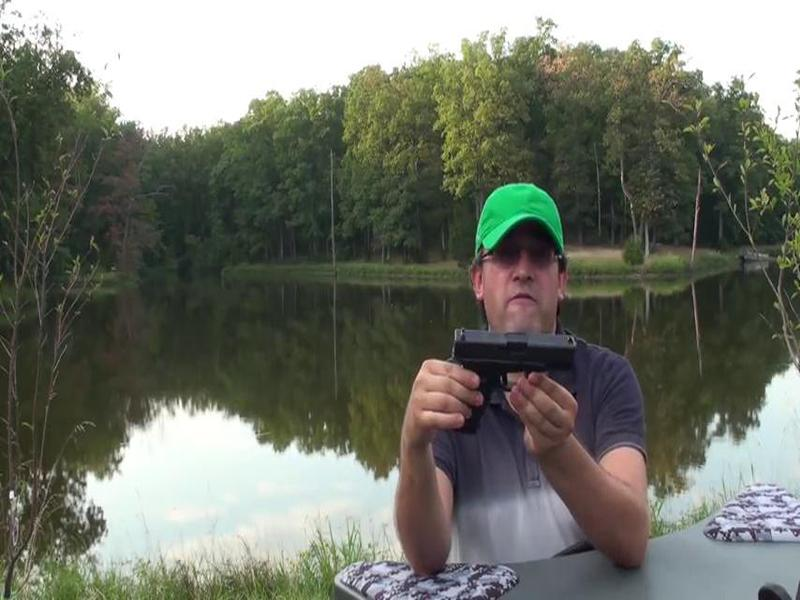Pistola: (433, 314, 581, 442)
